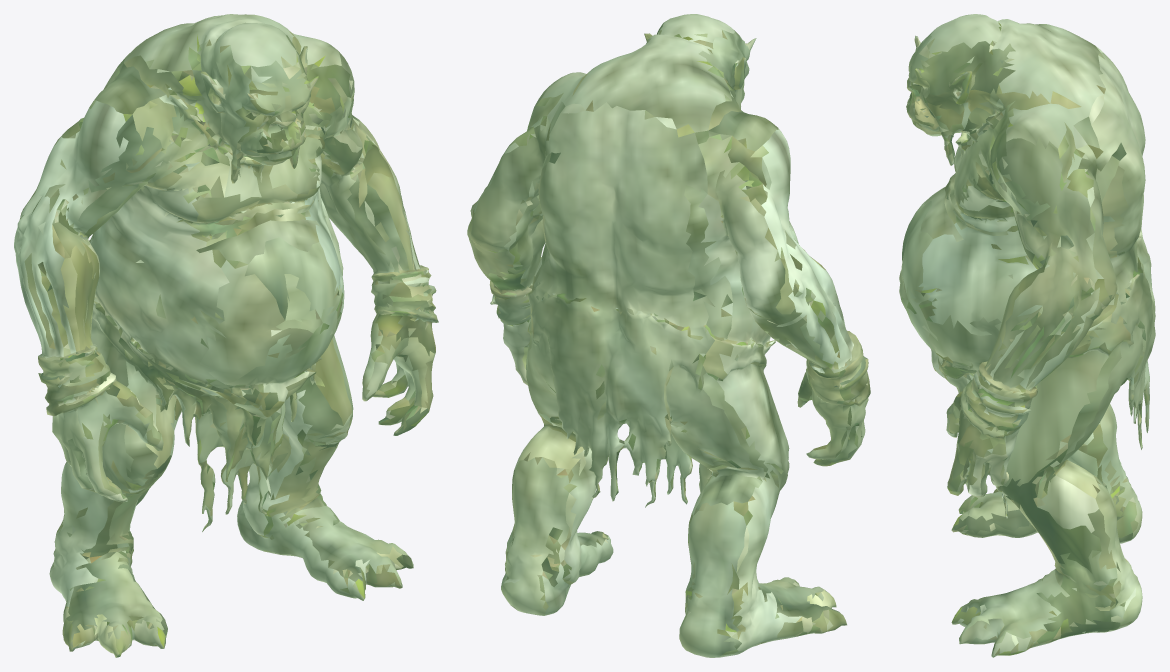
File: swamp_lurker.glb
The picture shows the model from 3 angles, left to right: view 1: azimuth 30°, elevation 25°; view 2: azimuth 150°, elevation 25°; view 3: azimuth 270°, elevation 25°; orthographic projection. The views are drawn at different scales.
Visible parts, largest first — view 1: Mesh1.0; view 2: Mesh1.0; view 3: Mesh1.0.
Part boxes in pixels (x1,y1,x2,y2): Mesh1.0: [14, 14, 438, 657]; Mesh1.0: [467, 14, 870, 657]; Mesh1.0: [899, 14, 1155, 657].
Bounding box in the file's own units: 1.3 × 1.91 × 0.795.
1 material, 1 textured.
